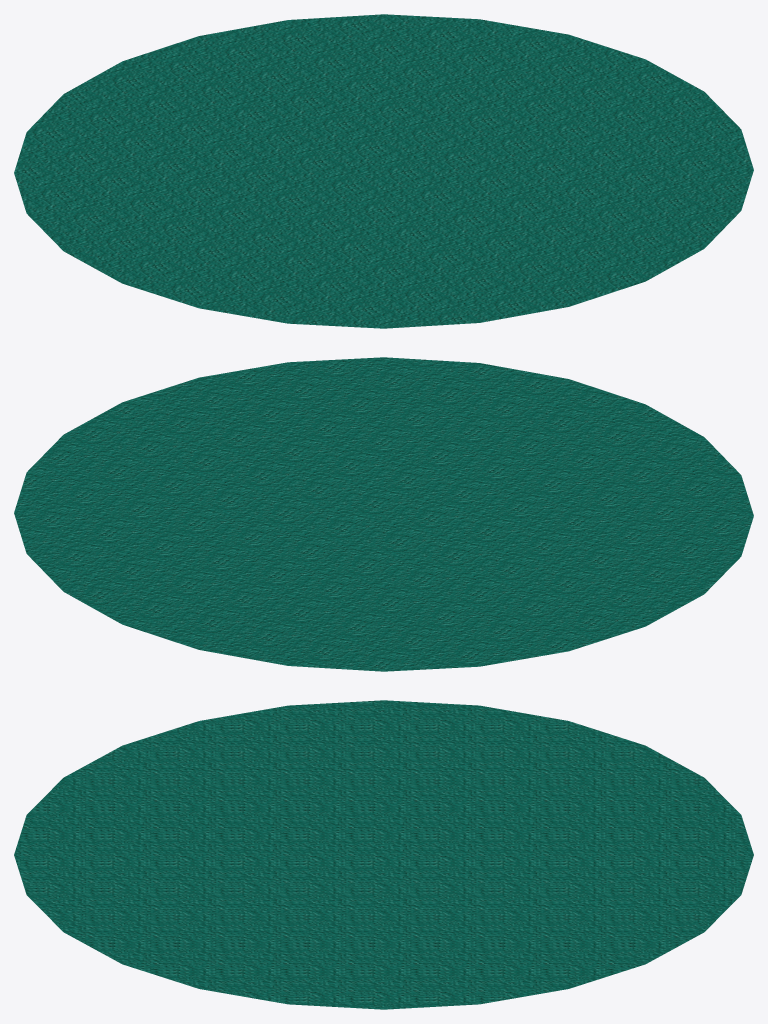
Rendered from alfombra.obj.
3 renders of one model, top to bottom at view 1: azimuth 30°, elevation 25°; view 2: azimuth 150°, elevation 25°; view 3: azimuth 270°, elevation 25°, orthographic.
Visible parts, largest first — view 1: pDisc1; view 2: pDisc1; view 3: pDisc1.
Part boxes in pixels (x1,y1,x2,y2): pDisc1: (14,14,753,328); pDisc1: (14,357,753,671); pDisc1: (14,700,753,1009).
Size of the model in its own units: 4.16 by 0.0207 by 4.16.
1 material, 1 textured.
